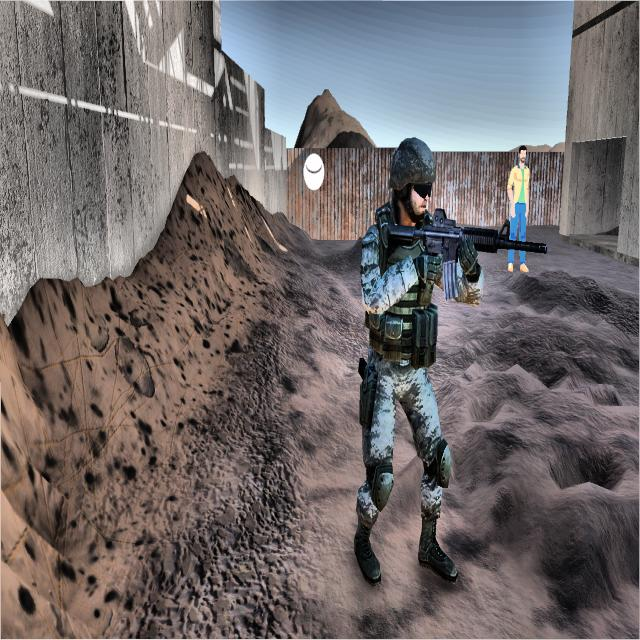bad: (345, 116, 492, 604)
good: (499, 128, 535, 276)
